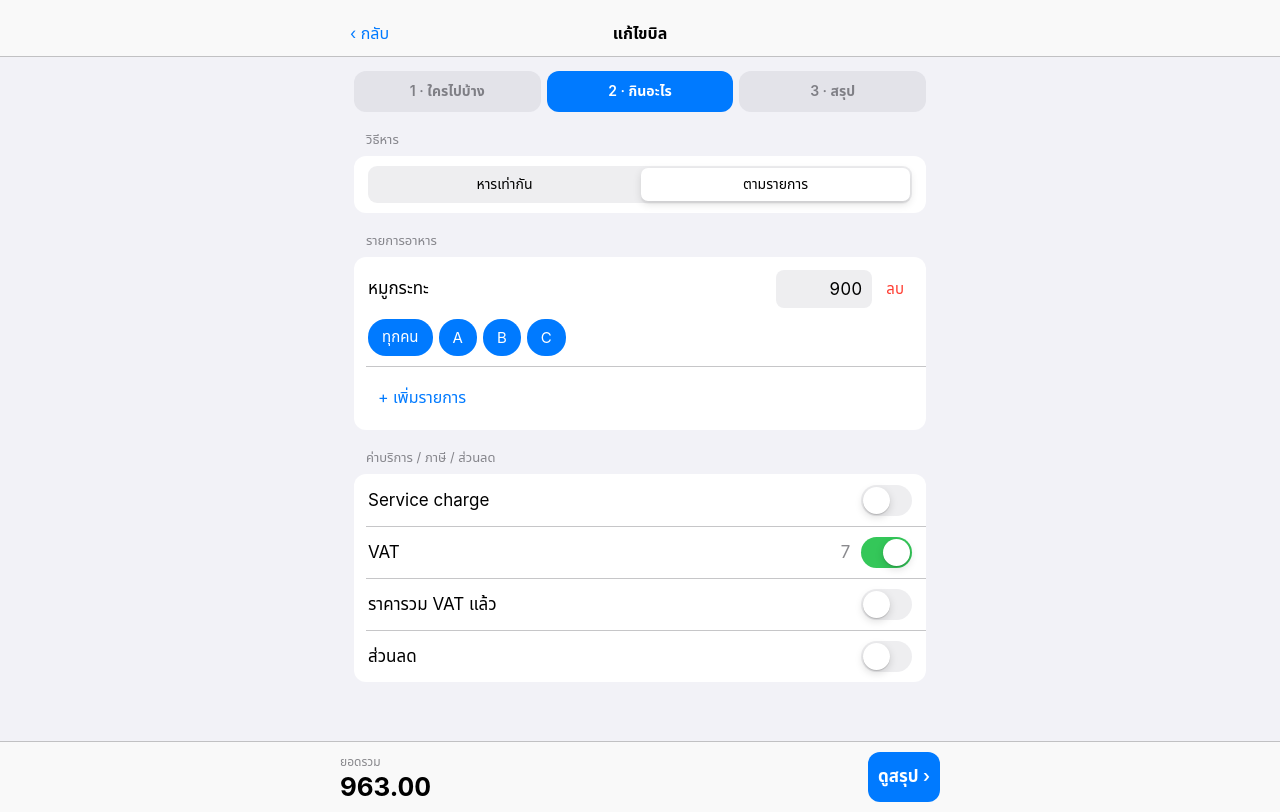
it: BillEditorPage › renders 3 people in itemized mode, calculates total with SC10/VAT7, toggles SC and VAT inclusive
This screenshot has width=1280, height=812.
Earlier steps of the test are not shown.
Check: the text with test id "editor-total" reads "963.00", box x1=340 y1=770 x2=431 y2=802
Click the switch named "ราคารวม VAT แล้ว" at (886, 604), box x1=861 y1=588 x2=912 y2=620
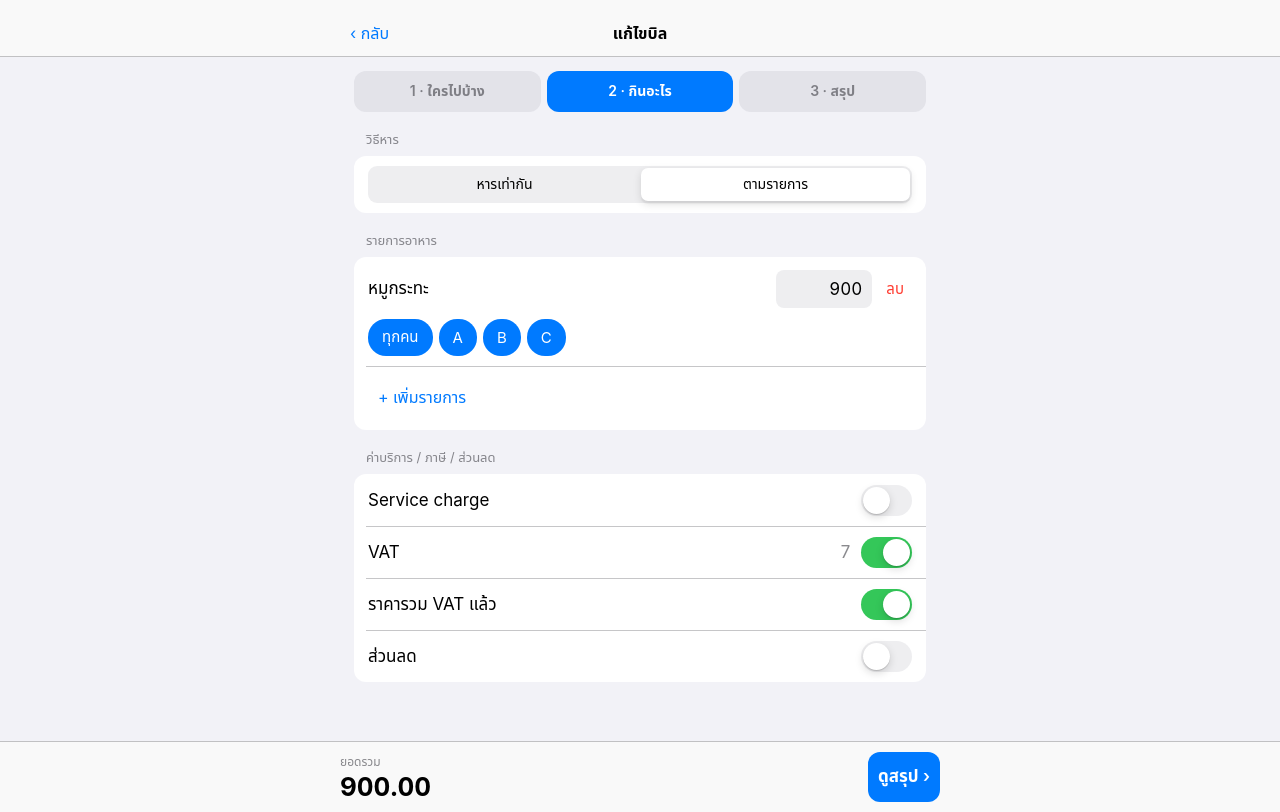
Check: the text with test id "editor-total" reads "900.00", box x1=340 y1=770 x2=431 y2=802
# Fix 1: Decimal discount typing ("12.50") must not wipe on '.'
Click the switch named "ส่วนลด" at (886, 656), box x1=861 y1=640 x2=912 y2=672
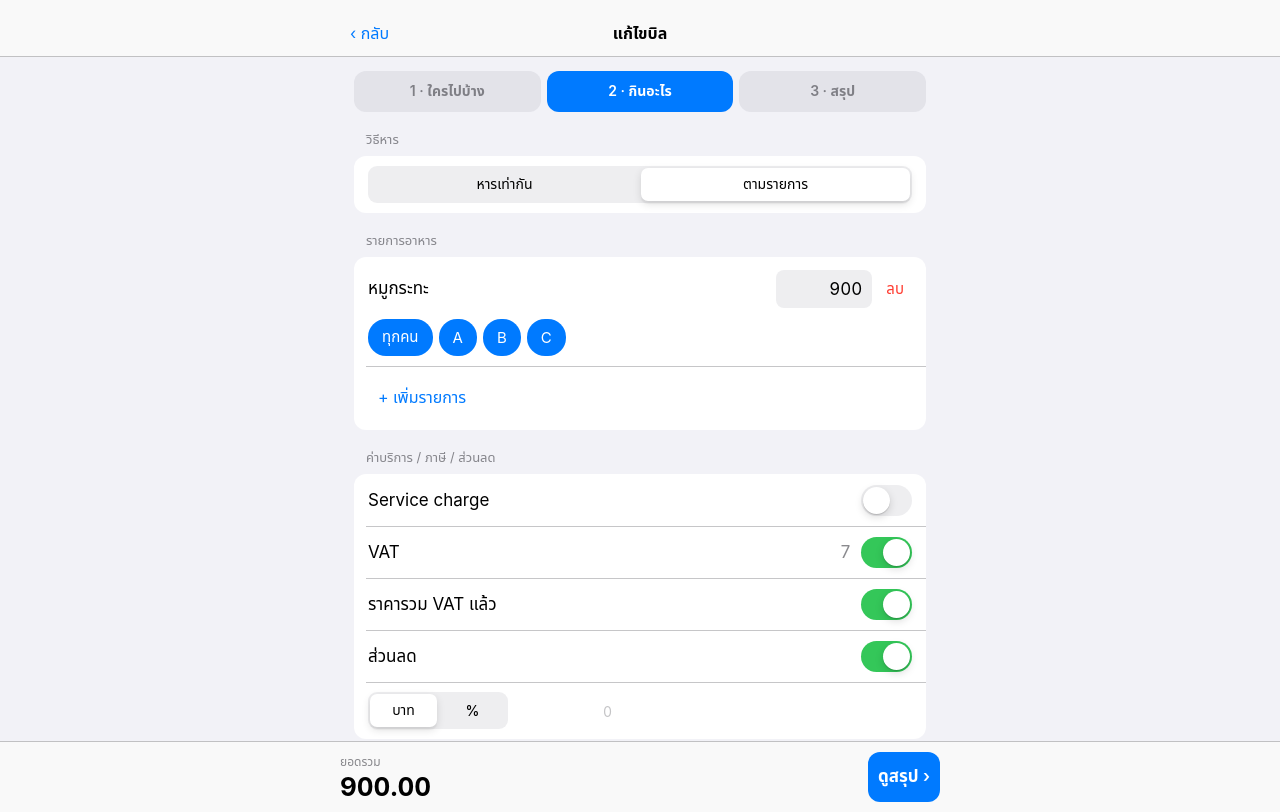
Type "12.50" into the field with test id "discount-input" at (564, 710), box x1=516 y1=694 x2=612 y2=726
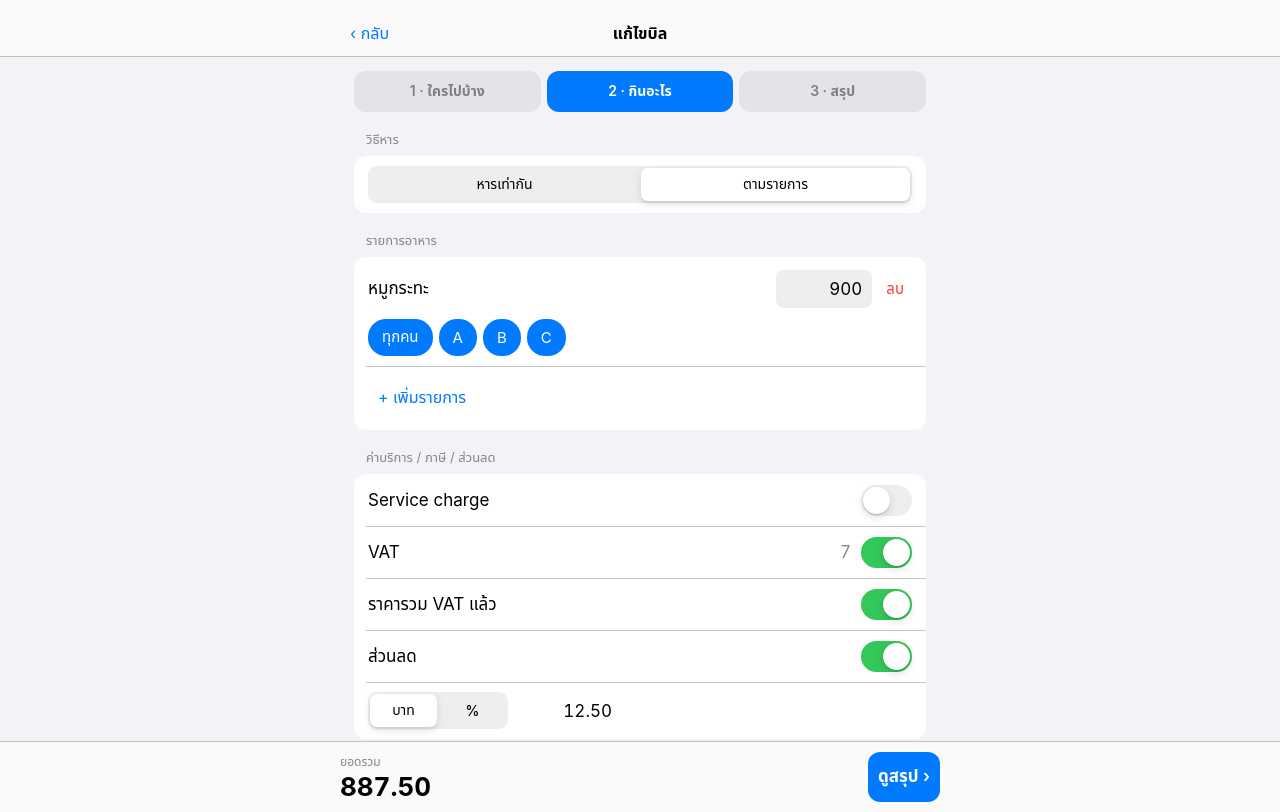
Check: the text with test id "editor-total" reads "887.50", box x1=340 y1=770 x2=431 y2=802
Click the button "B" at (502, 338), box x1=483 y1=319 x2=521 y2=356
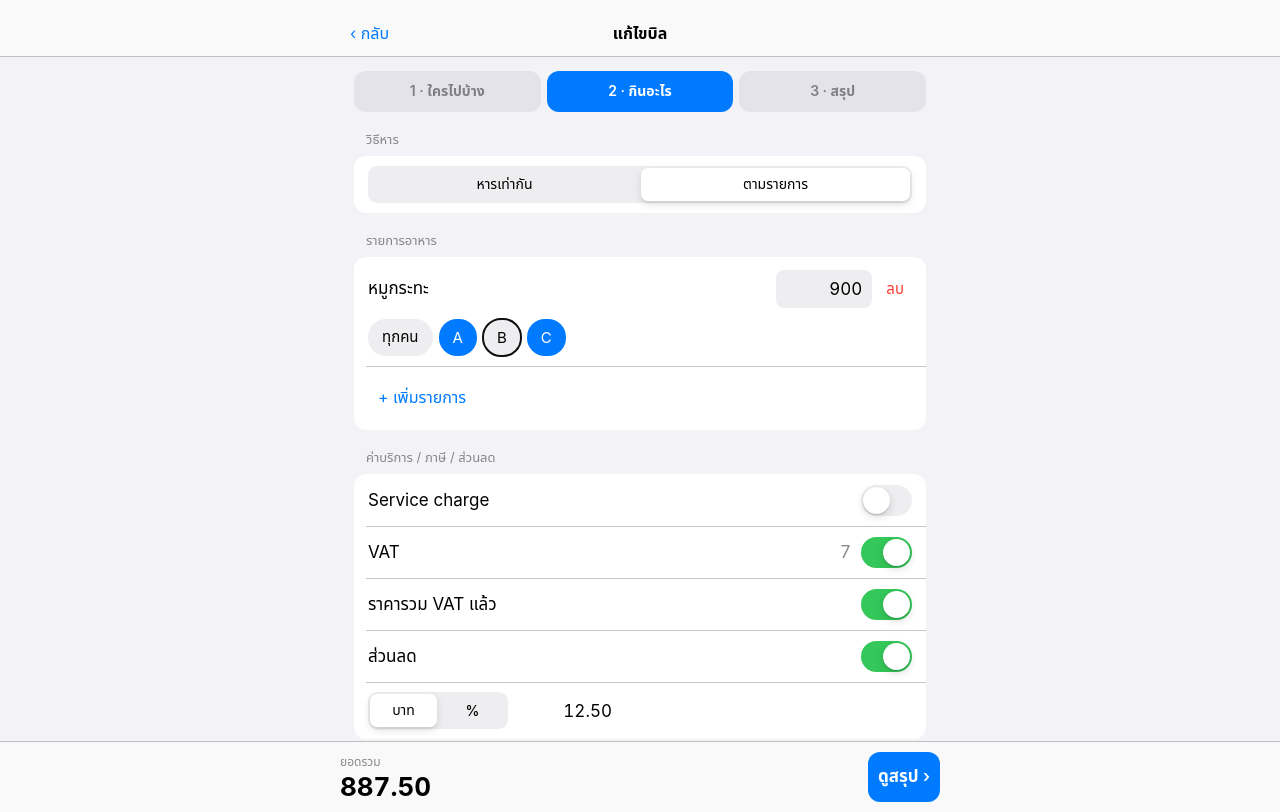
Click the button "C" at (546, 338), box x1=527 y1=319 x2=566 y2=356
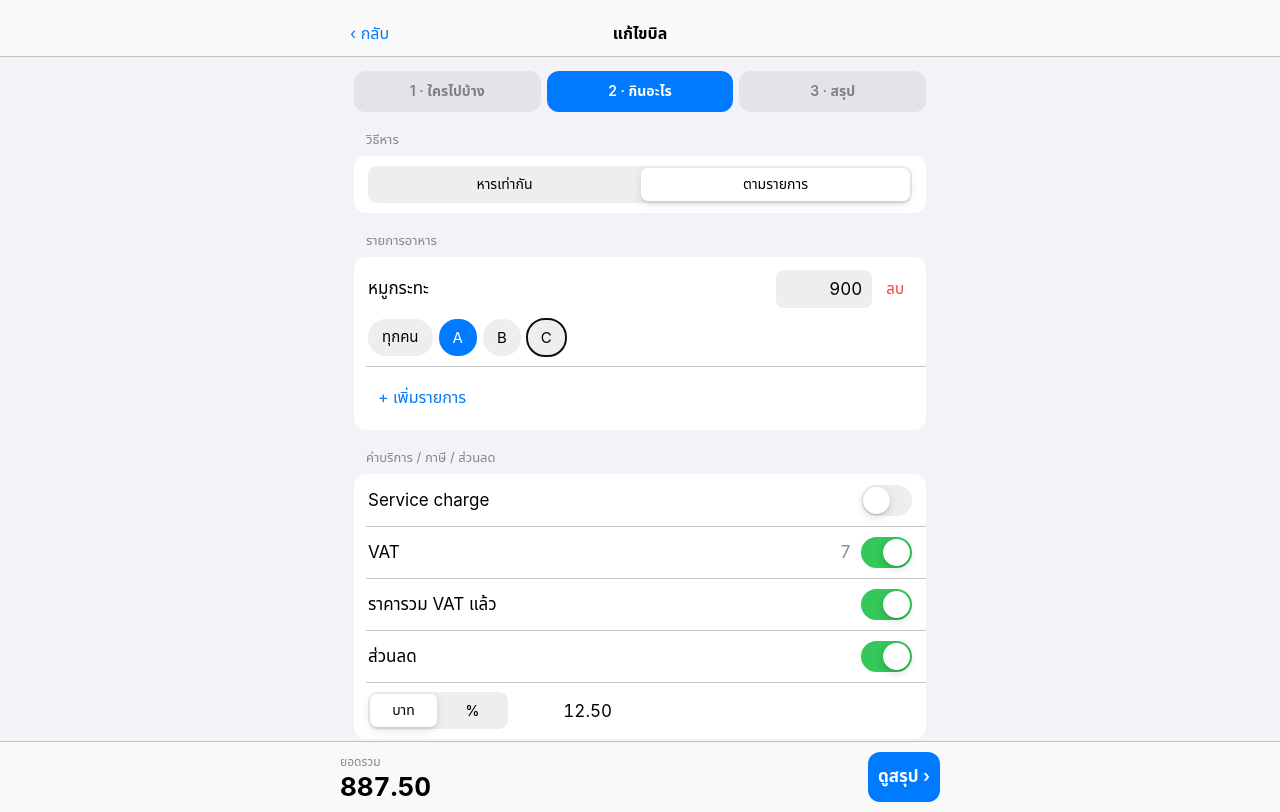
Click the button "A" at (458, 338), box x1=438 y1=319 x2=477 y2=356
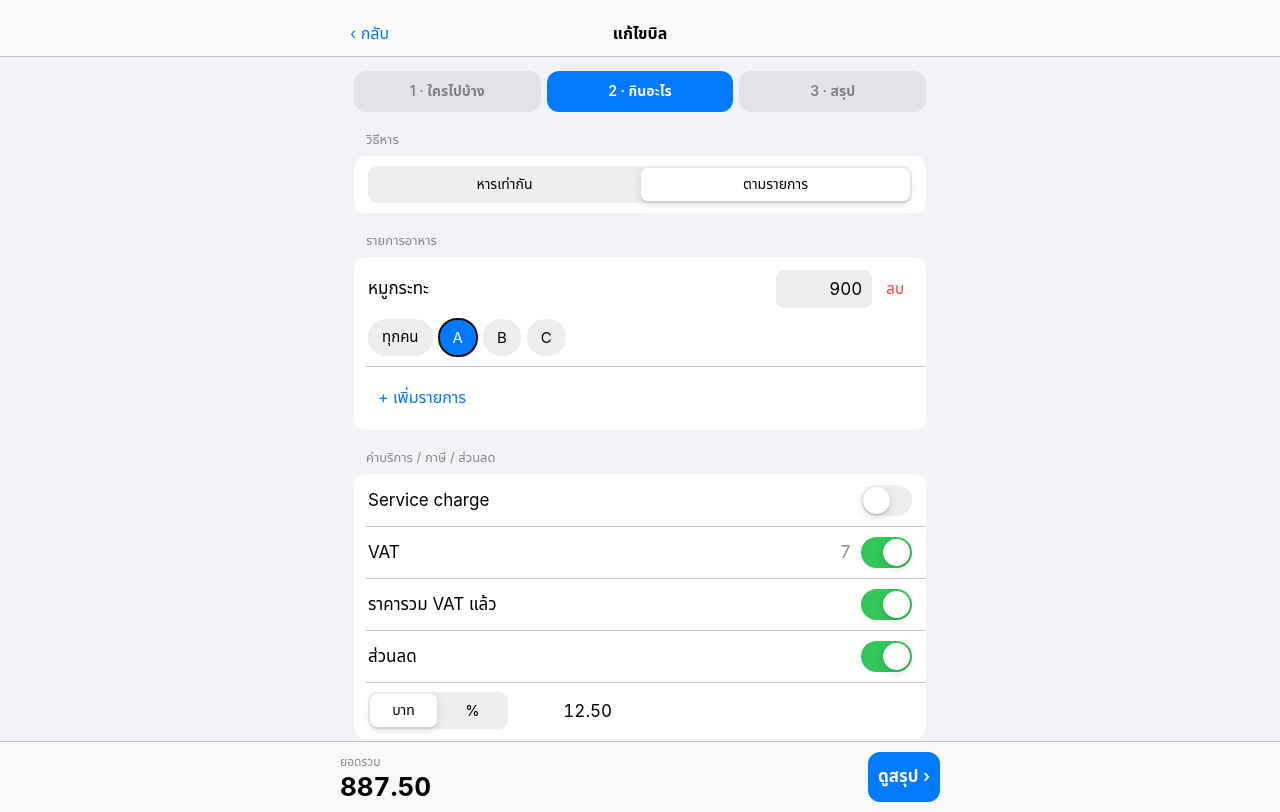
Check: the button "ทุกคน" is not pressed, box x1=368 y1=319 x2=432 y2=356
